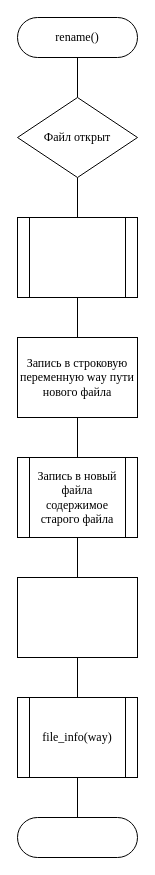
The diagram is 155 pixels wide and 875 high, and some of its shapes have lost their labels. Each missing label, with the centre of its shape:
"имя открытого файла = путь нового фалй" goes at [77,617].
"Конец" goes at [77,837].
"Удаление открытого файла" goes at [77,257].
